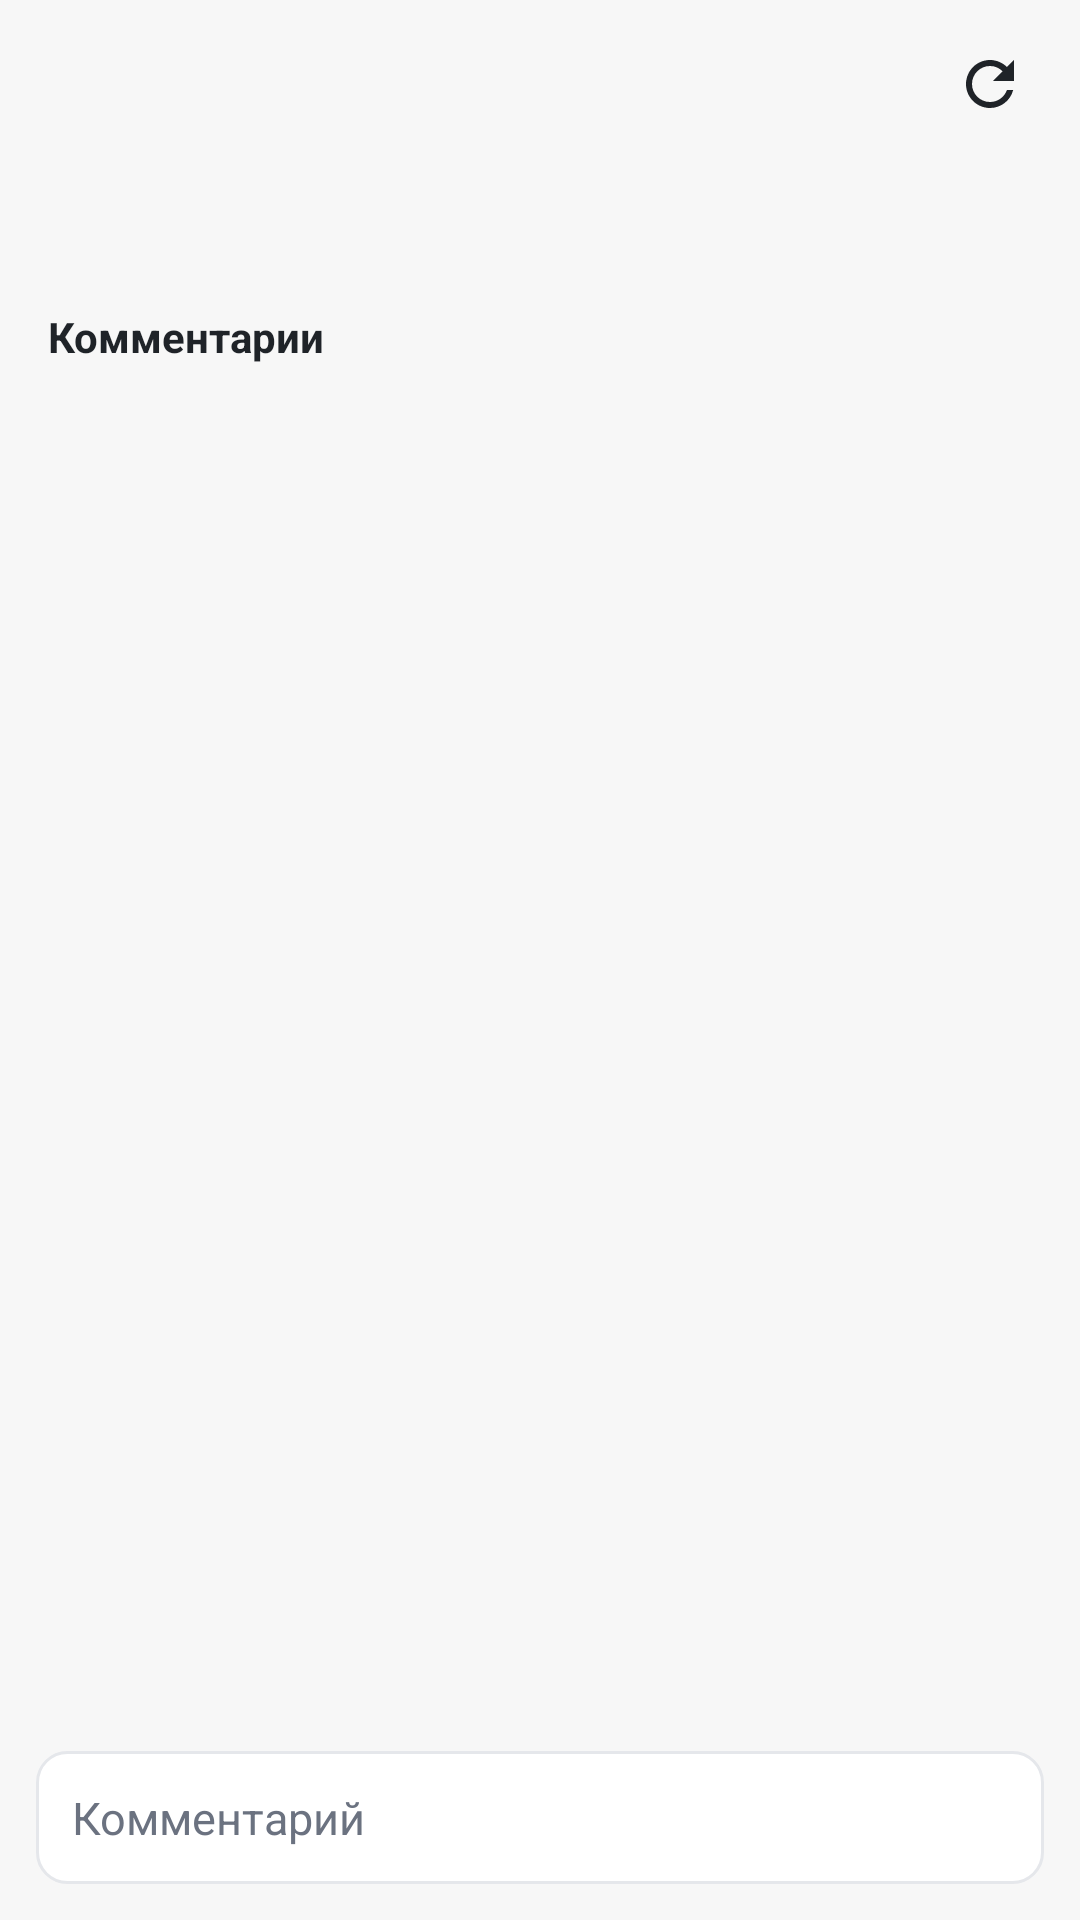

Where to tap for icons on this 1080×1920 app screen, as [x,y]:
Обновить: [990,84]
